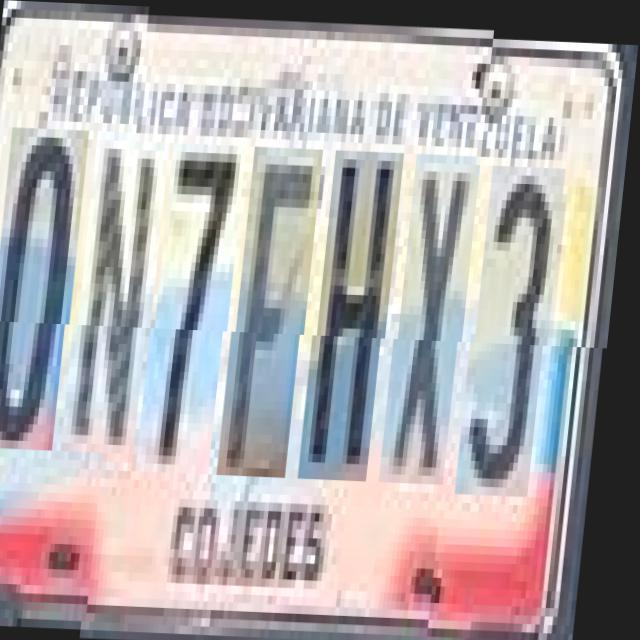3: (470, 152, 569, 484)
7: (150, 142, 249, 472)
F: (231, 144, 326, 475)
H: (312, 147, 407, 478)
N: (74, 138, 172, 461)
O: (0, 135, 92, 458)
X: (393, 150, 484, 480)
